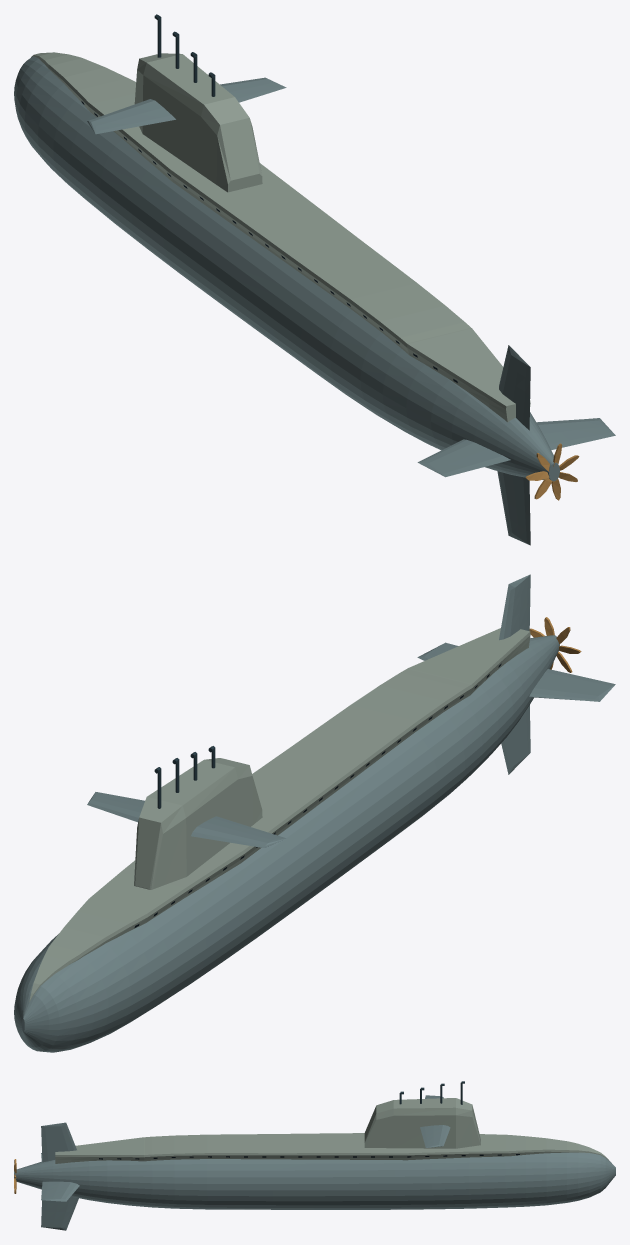
File: archive-type-039a.glb
3 renders of one model, top to bottom at view 1: azimuth 30°, elevation 25°; view 2: azimuth 150°, elevation 25°; view 3: azimuth 270°, elevation 25°, orthographic. The views are drawn at different scales.
Parts seen in each view (by area): view 1: archive-type-039a-pressure_hull.014-geometry, archive-type-039a-cruise_deck.010-geometry, archive-type-039a-submarine_sail.014-geometry, archive-type-039a-stern_rudder_2.008-geometry, archive-type-039a-stern_rudder_1.008-geometry, archive-type-039a-stern_rudder_3.008-geometry, archive-type-039a-diving_plane_-1.014-geometry, archive-type-039a-stern_rudder_0.008-geometry, archive-type-039a-screw_0.014-geometry, archive-type-039a-diving_plane_1.014-geometry; view 2: archive-type-039a-pressure_hull.014-geometry, archive-type-039a-cruise_deck.010-geometry, archive-type-039a-submarine_sail.014-geometry, archive-type-039a-stern_rudder_2.008-geometry, archive-type-039a-diving_plane_-1.014-geometry, archive-type-039a-stern_rudder_3.008-geometry, archive-type-039a-stern_rudder_1.008-geometry, archive-type-039a-diving_plane_1.014-geometry, archive-type-039a-screw_0.014-geometry; view 3: archive-type-039a-pressure_hull.014-geometry, archive-type-039a-cruise_deck.010-geometry, archive-type-039a-submarine_sail.014-geometry, archive-type-039a-stern_rudder_3.008-geometry, archive-type-039a-stern_rudder_1.008-geometry, archive-type-039a-stern_rudder_0.008-geometry, archive-type-039a-diving_plane_1.014-geometry.
Boxes of the visible parts, box(x1,y1,x2,y2) form: archive-type-039a-pressure_hull.014-geometry: box(14, 56, 559, 481); archive-type-039a-cruise_deck.010-geometry: box(31, 52, 530, 422); archive-type-039a-submarine_sail.014-geometry: box(134, 14, 262, 192); archive-type-039a-stern_rudder_2.008-geometry: box(417, 439, 510, 477); archive-type-039a-stern_rudder_1.008-geometry: box(497, 471, 530, 545); archive-type-039a-stern_rudder_3.008-geometry: box(499, 345, 530, 430); archive-type-039a-diving_plane_-1.014-geometry: box(87, 99, 175, 134); archive-type-039a-stern_rudder_0.008-geometry: box(536, 418, 615, 449); archive-type-039a-screw_0.014-geometry: box(525, 443, 579, 500); archive-type-039a-diving_plane_1.014-geometry: box(220, 77, 286, 102); archive-type-039a-pressure_hull.014-geometry: box(14, 635, 559, 1052); archive-type-039a-cruise_deck.010-geometry: box(29, 628, 530, 1001); archive-type-039a-submarine_sail.014-geometry: box(134, 746, 262, 889); archive-type-039a-stern_rudder_2.008-geometry: box(529, 669, 615, 701); archive-type-039a-diving_plane_-1.014-geometry: box(191, 816, 286, 847); archive-type-039a-stern_rudder_3.008-geometry: box(499, 574, 530, 640); archive-type-039a-stern_rudder_1.008-geometry: box(501, 705, 530, 774); archive-type-039a-diving_plane_1.014-geometry: box(87, 792, 144, 822); archive-type-039a-screw_0.014-geometry: box(529, 617, 581, 672); archive-type-039a-pressure_hull.014-geometry: box(14, 1152, 615, 1209); archive-type-039a-cruise_deck.010-geometry: box(55, 1133, 608, 1163); archive-type-039a-submarine_sail.014-geometry: box(364, 1081, 480, 1148); archive-type-039a-stern_rudder_3.008-geometry: box(41, 1122, 76, 1162); archive-type-039a-stern_rudder_1.008-geometry: box(41, 1196, 78, 1230); archive-type-039a-stern_rudder_0.008-geometry: box(41, 1181, 79, 1201); archive-type-039a-diving_plane_1.014-geometry: box(420, 1125, 450, 1147).
Bounding box in the file's own units: 2.04 × 2.69 × 9.82.
